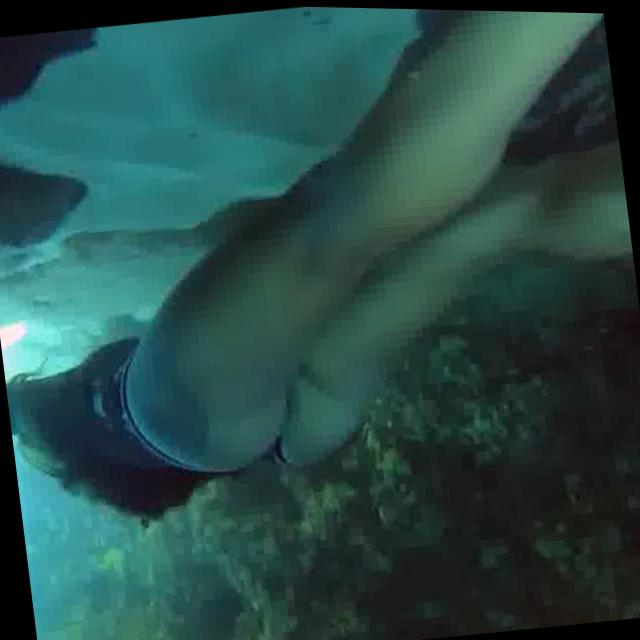human: (0, 0, 640, 569)
